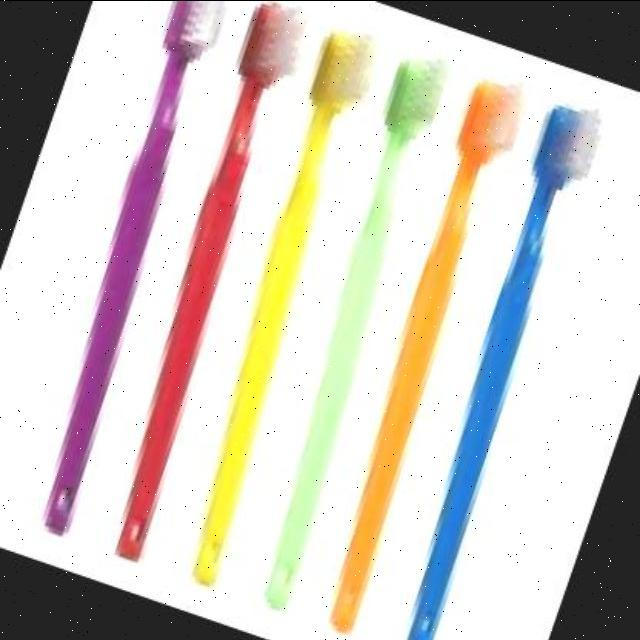toothbrush: (354, 76, 638, 640), (148, 18, 400, 596)
